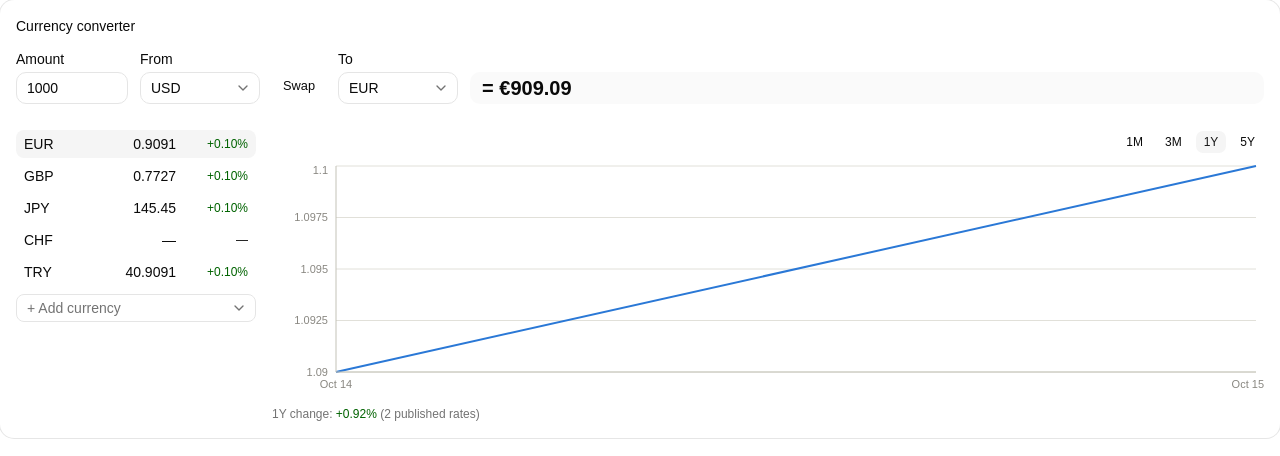
CurrencyConverterCard › never offers the From currency as To; choosing it as From moves To to the first listed currency and charts the pair
Expected: the text named "Converted amount" shows "€909.09", [499, 77, 572, 99]
// USD is From, so the To list leaves it out.
Click the dropdown named "Convert to": [398, 88] box [338, 72, 458, 104]
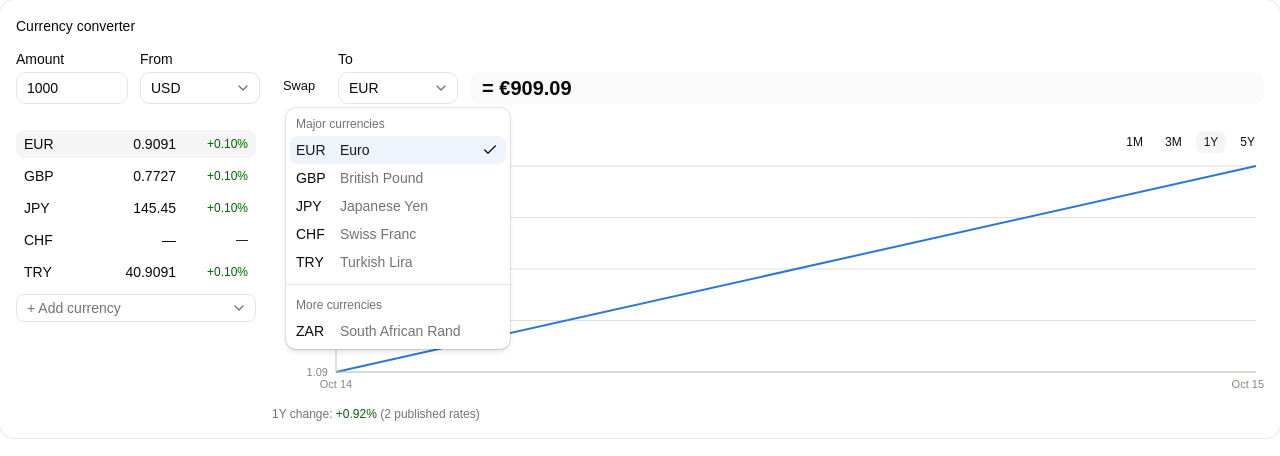
Press Escape
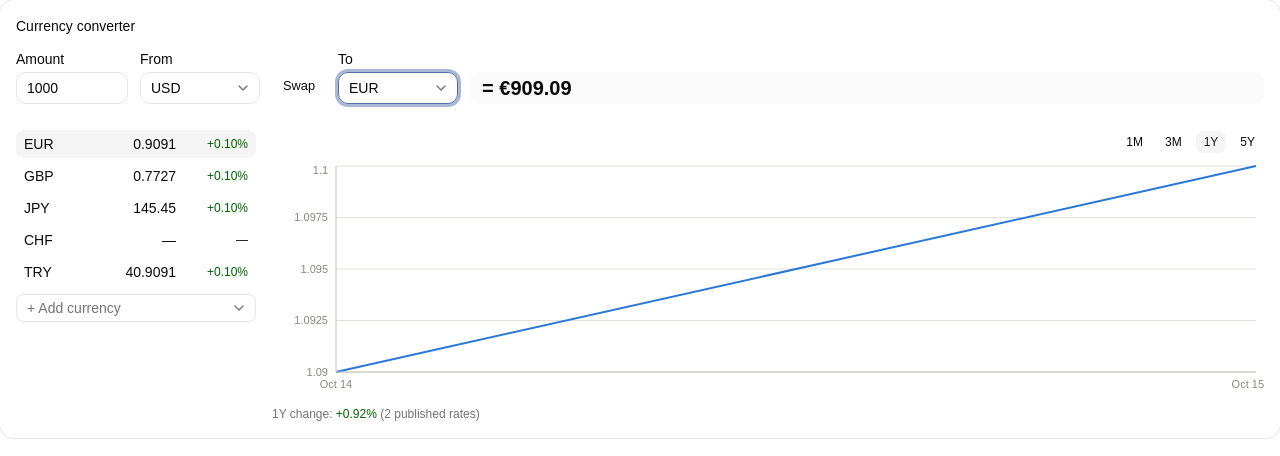
Click the dropdown named "Convert from": [200, 88] box [140, 72, 260, 104]
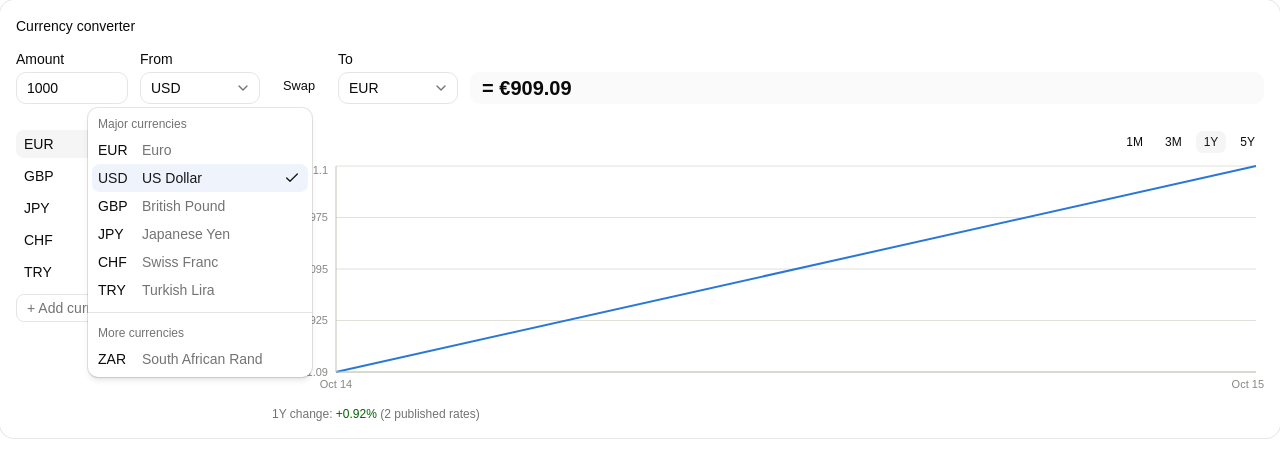
Click the option "EUR Euro": [113, 150] box [98, 142, 172, 158]
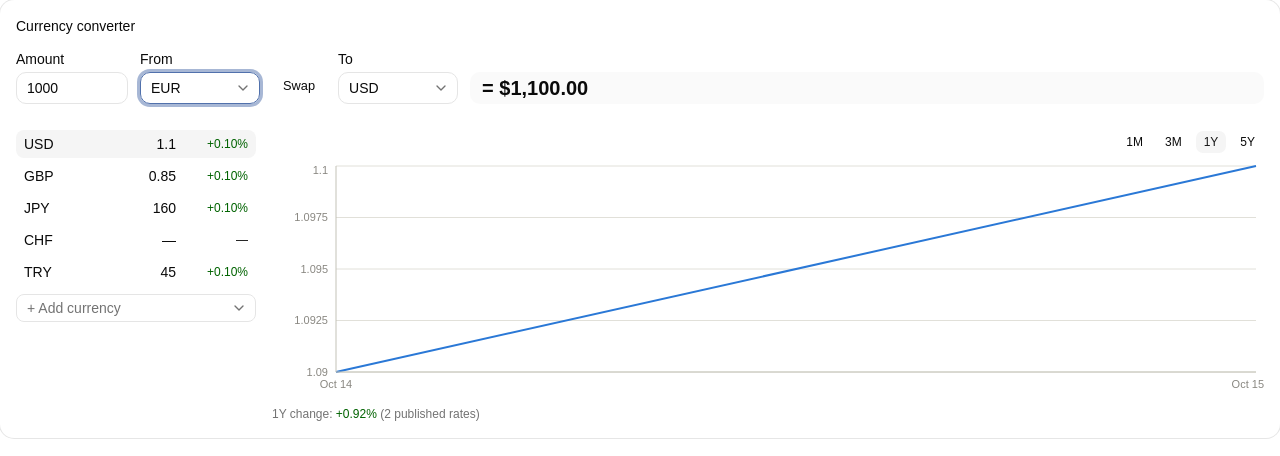
Expected: the dropdown named "Convert to" shows "USD", [338, 72, 458, 104]
